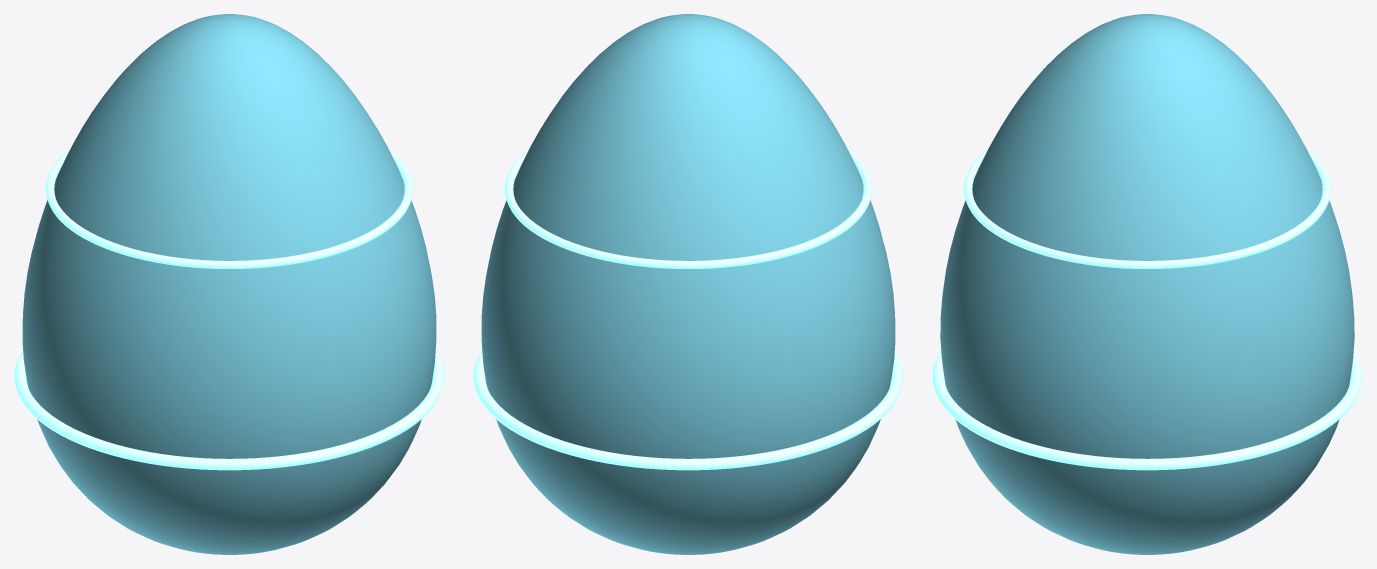
The model's file is shield.glb.
3 views of the same model, side by side, from view 1: azimuth 30°, elevation 25°; view 2: azimuth 150°, elevation 25°; view 3: azimuth 270°, elevation 25° (orthographic).
Visible parts, largest first — view 1: Shield, RingLow, RingHigh; view 2: Shield, RingLow, RingHigh; view 3: Shield, RingLow, RingHigh.
Part boxes in pixels (x1=…): Shield: x1=22, y1=14, x2=436, y2=554; RingLow: x1=14, y1=349, x2=444, y2=470; RingHigh: x1=45, y1=148, x2=413, y2=268; Shield: x1=481, y1=14, x2=895, y2=554; RingLow: x1=473, y1=349, x2=903, y2=470; RingHigh: x1=504, y1=148, x2=872, y2=268; Shield: x1=940, y1=14, x2=1354, y2=554; RingLow: x1=932, y1=349, x2=1362, y2=470; RingHigh: x1=963, y1=148, x2=1331, y2=268.
Size of the model in its own units: 1.77 by 2.32 by 1.77.
